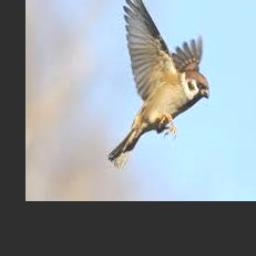Sparrow: (109, 0, 209, 170)
